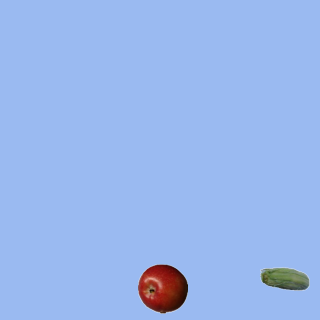Apple Braeburn: (137, 263, 187, 313)
Corn Husk: (259, 255, 309, 305)
